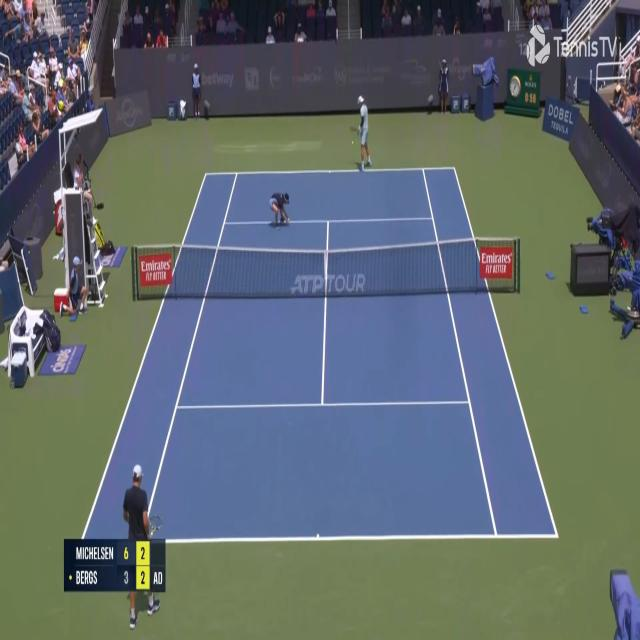tennis-player: (122, 460, 164, 630), (348, 92, 372, 172)
